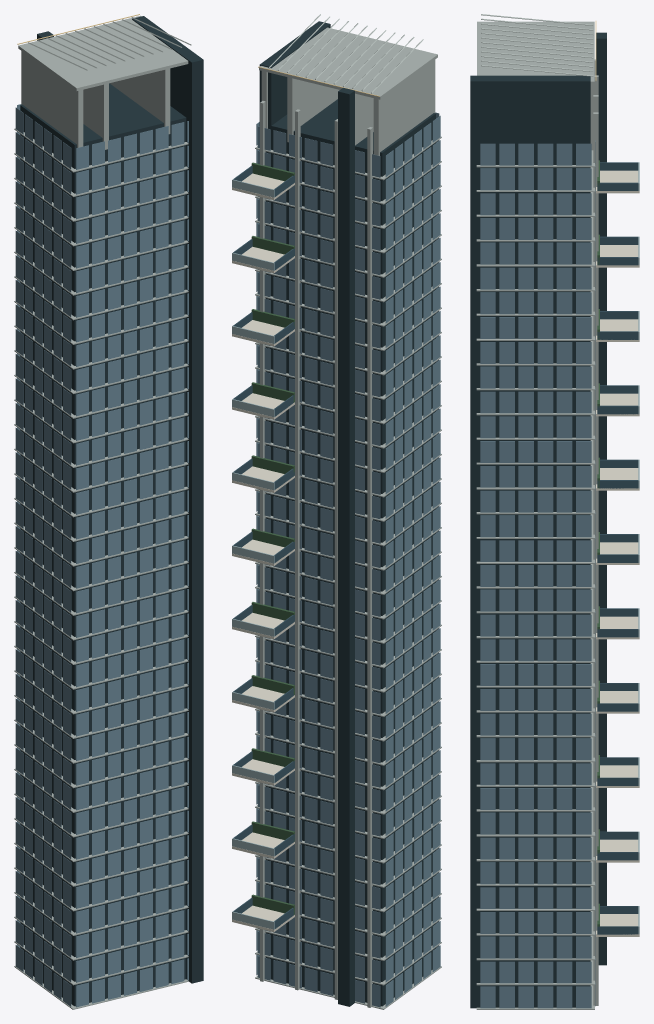
The model's file is KOL_T1_ATMOSPHERE__Tower_2.fbx.
3 renders of one model, left to right at view 1: azimuth 30°, elevation 25°; view 2: azimuth 150°, elevation 25°; view 3: azimuth 270°, elevation 25°, orthographic.
Visible parts, largest first — view 1: KOL_T1_ATMOSPHERE__Tower_2__KOL_T1_Graphite, KOL_T1_ATMOSPHERE__Tower_2__KOL_T1_GlassBlue, KOL_T1_ATMOSPHERE__Tower_2__KOL_T1_GlassBlue.001, KOL_T1_ATMOSPHERE__Tower_2__KOL_T1_Silver, KOL_T1_ATMOSPHERE__Tower_2__KOL_T1_WarmWindow; view 2: KOL_T1_ATMOSPHERE__Tower_2__KOL_T1_Graphite, KOL_T1_ATMOSPHERE__Tower_2__KOL_T1_GlassBlue, KOL_T1_ATMOSPHERE__Tower_2__KOL_T1_GlassBlue.001, KOL_T1_ATMOSPHERE__Tower_2__KOL_T1_Silver, KOL_T1_ATMOSPHERE__Tower_2__KOL_T1_WarmWindow, KOL_T1_ATMOSPHERE__Tower_2__KOL_T1_Pearl, KOL_T1_ATMOSPHERE__Tower_2__KOL_T1_Leaf, KOL_T1_ATMOSPHERE__Tower_2__KOL_T1_GlassLight, KOL_T1_ATMOSPHERE__Tower_2__KOL_T1_Glass; view 3: KOL_T1_ATMOSPHERE__Tower_2__KOL_T1_Graphite, KOL_T1_ATMOSPHERE__Tower_2__KOL_T1_GlassBlue, KOL_T1_ATMOSPHERE__Tower_2__KOL_T1_GlassBlue.001, KOL_T1_ATMOSPHERE__Tower_2__KOL_T1_Silver, KOL_T1_ATMOSPHERE__Tower_2__KOL_T1_Glass, KOL_T1_ATMOSPHERE__Tower_2__KOL_T1_Pearl, KOL_T1_ATMOSPHERE__Tower_2__KOL_T1_WarmWindow, KOL_T1_ATMOSPHERE__Tower_2__KOL_T1_Leaf, KOL_T1_ATMOSPHERE__Tower_2__KOL_T1_GlassLight.
Part boxes in pixels (x1,y1,x2,y2): KOL_T1_ATMOSPHERE__Tower_2__KOL_T1_Graphite: (20, 16, 203, 1006); KOL_T1_ATMOSPHERE__Tower_2__KOL_T1_GlassBlue: (15, 526, 188, 1007); KOL_T1_ATMOSPHERE__Tower_2__KOL_T1_GlassBlue.001: (15, 104, 188, 563); KOL_T1_ATMOSPHERE__Tower_2__KOL_T1_Silver: (14, 15, 191, 1009); KOL_T1_ATMOSPHERE__Tower_2__KOL_T1_WarmWindow: (17, 132, 184, 984); KOL_T1_ATMOSPHERE__Tower_2__KOL_T1_Graphite: (259, 21, 435, 1006); KOL_T1_ATMOSPHERE__Tower_2__KOL_T1_GlassBlue: (256, 537, 440, 1006); KOL_T1_ATMOSPHERE__Tower_2__KOL_T1_GlassBlue.001: (256, 112, 440, 567); KOL_T1_ATMOSPHERE__Tower_2__KOL_T1_Silver: (255, 14, 441, 1009); KOL_T1_ATMOSPHERE__Tower_2__KOL_T1_WarmWindow: (273, 142, 440, 1007); KOL_T1_ATMOSPHERE__Tower_2__KOL_T1_Pearl: (232, 173, 294, 931); KOL_T1_ATMOSPHERE__Tower_2__KOL_T1_Leaf: (251, 162, 294, 914); KOL_T1_ATMOSPHERE__Tower_2__KOL_T1_GlassLight: (232, 179, 274, 929); KOL_T1_ATMOSPHERE__Tower_2__KOL_T1_Glass: (233, 165, 294, 928); KOL_T1_ATMOSPHERE__Tower_2__KOL_T1_Graphite: (470, 32, 606, 1008); KOL_T1_ATMOSPHERE__Tower_2__KOL_T1_GlassBlue: (480, 561, 595, 1008); KOL_T1_ATMOSPHERE__Tower_2__KOL_T1_GlassBlue.001: (480, 140, 595, 561); KOL_T1_ATMOSPHERE__Tower_2__KOL_T1_Silver: (476, 14, 598, 1009); KOL_T1_ATMOSPHERE__Tower_2__KOL_T1_Glass: (597, 162, 638, 934); KOL_T1_ATMOSPHERE__Tower_2__KOL_T1_Pearl: (596, 170, 639, 936); KOL_T1_ATMOSPHERE__Tower_2__KOL_T1_WarmWindow: (556, 193, 572, 958); KOL_T1_ATMOSPHERE__Tower_2__KOL_T1_Leaf: (597, 160, 599, 926); KOL_T1_ATMOSPHERE__Tower_2__KOL_T1_GlassLight: (638, 162, 639, 934).
Bounding box in the file's own units: 55.8 × 379 × 62.
